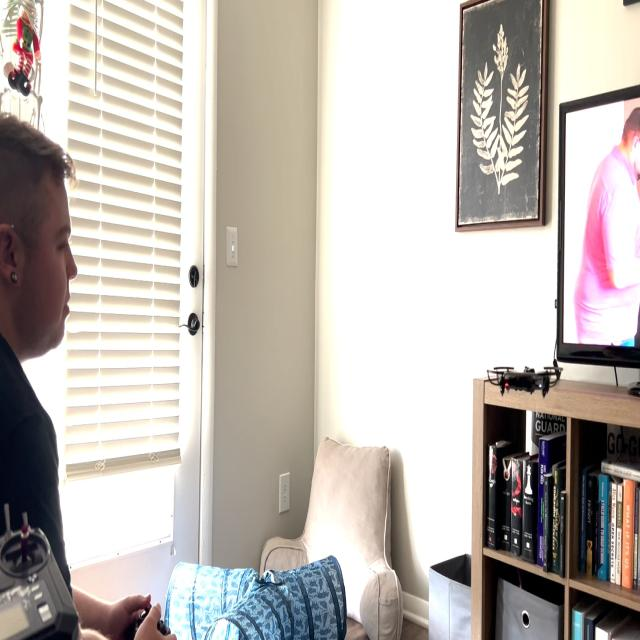drone: (482, 353, 564, 412)
